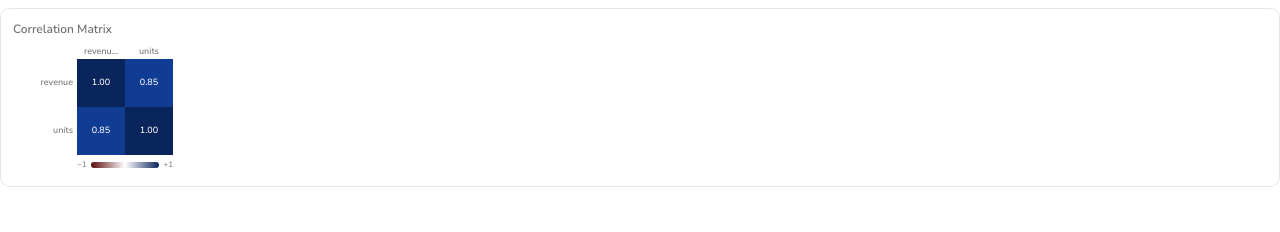
Scenario: HeatmapChart interactivity › shows selected cell info after clicking a cell
The width and height of the screenshot is (1280, 232).
Note: Click on the revenue×units cell (value 0.85)
Step 1. Click the button titled "revenue × units: 0.850" in the row of "revenue" → [149, 82], box [125,58,173,106]
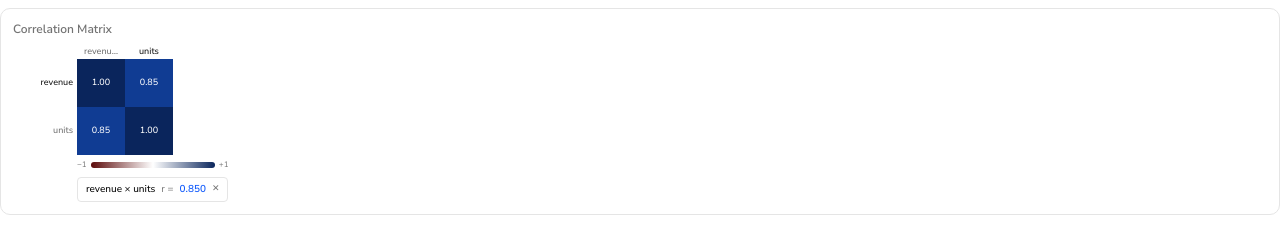
Now the text "0.850" is shown, box [180,182,206,196]
Now the text "revenue × units" is shown, box [86,182,155,196]
